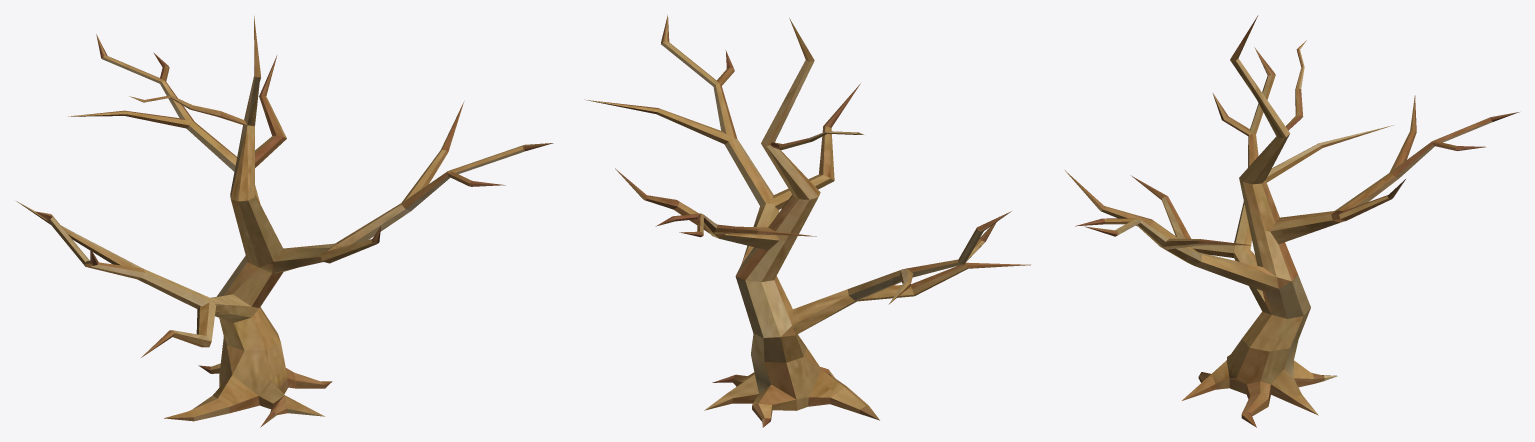
Rendered from tree.glb.
3 views of the same model, side by side, from view 1: azimuth 30°, elevation 25°; view 2: azimuth 150°, elevation 25°; view 3: azimuth 270°, elevation 25° (orthographic). The views are drawn at different scales.
Visible parts, largest first — view 1: tree; view 2: tree; view 3: tree.
Boxes of the visible parts, left/top/right/bottom form: tree: left=16, top=16, right=553, bottom=427; tree: left=584, top=15, right=1030, bottom=427; tree: left=1065, top=15, right=1519, bottom=427.
Size of the model in its own units: 1.38 by 1.18 by 1.3.
1 material, 1 textured.
